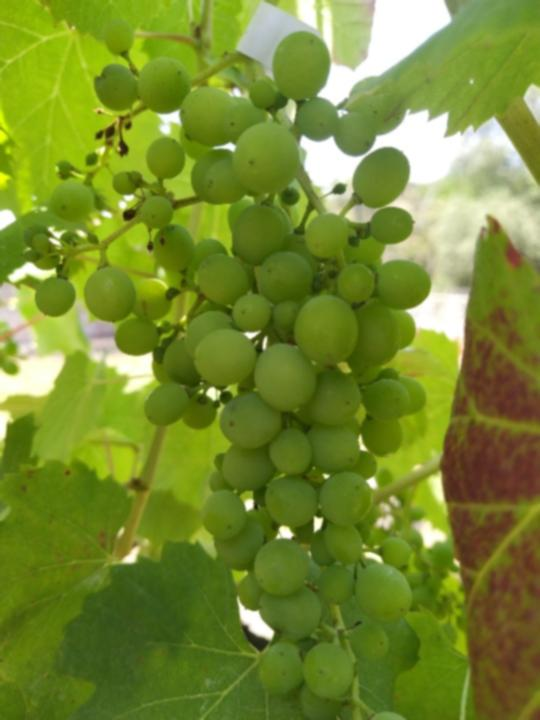grape: (24, 17, 432, 717)
